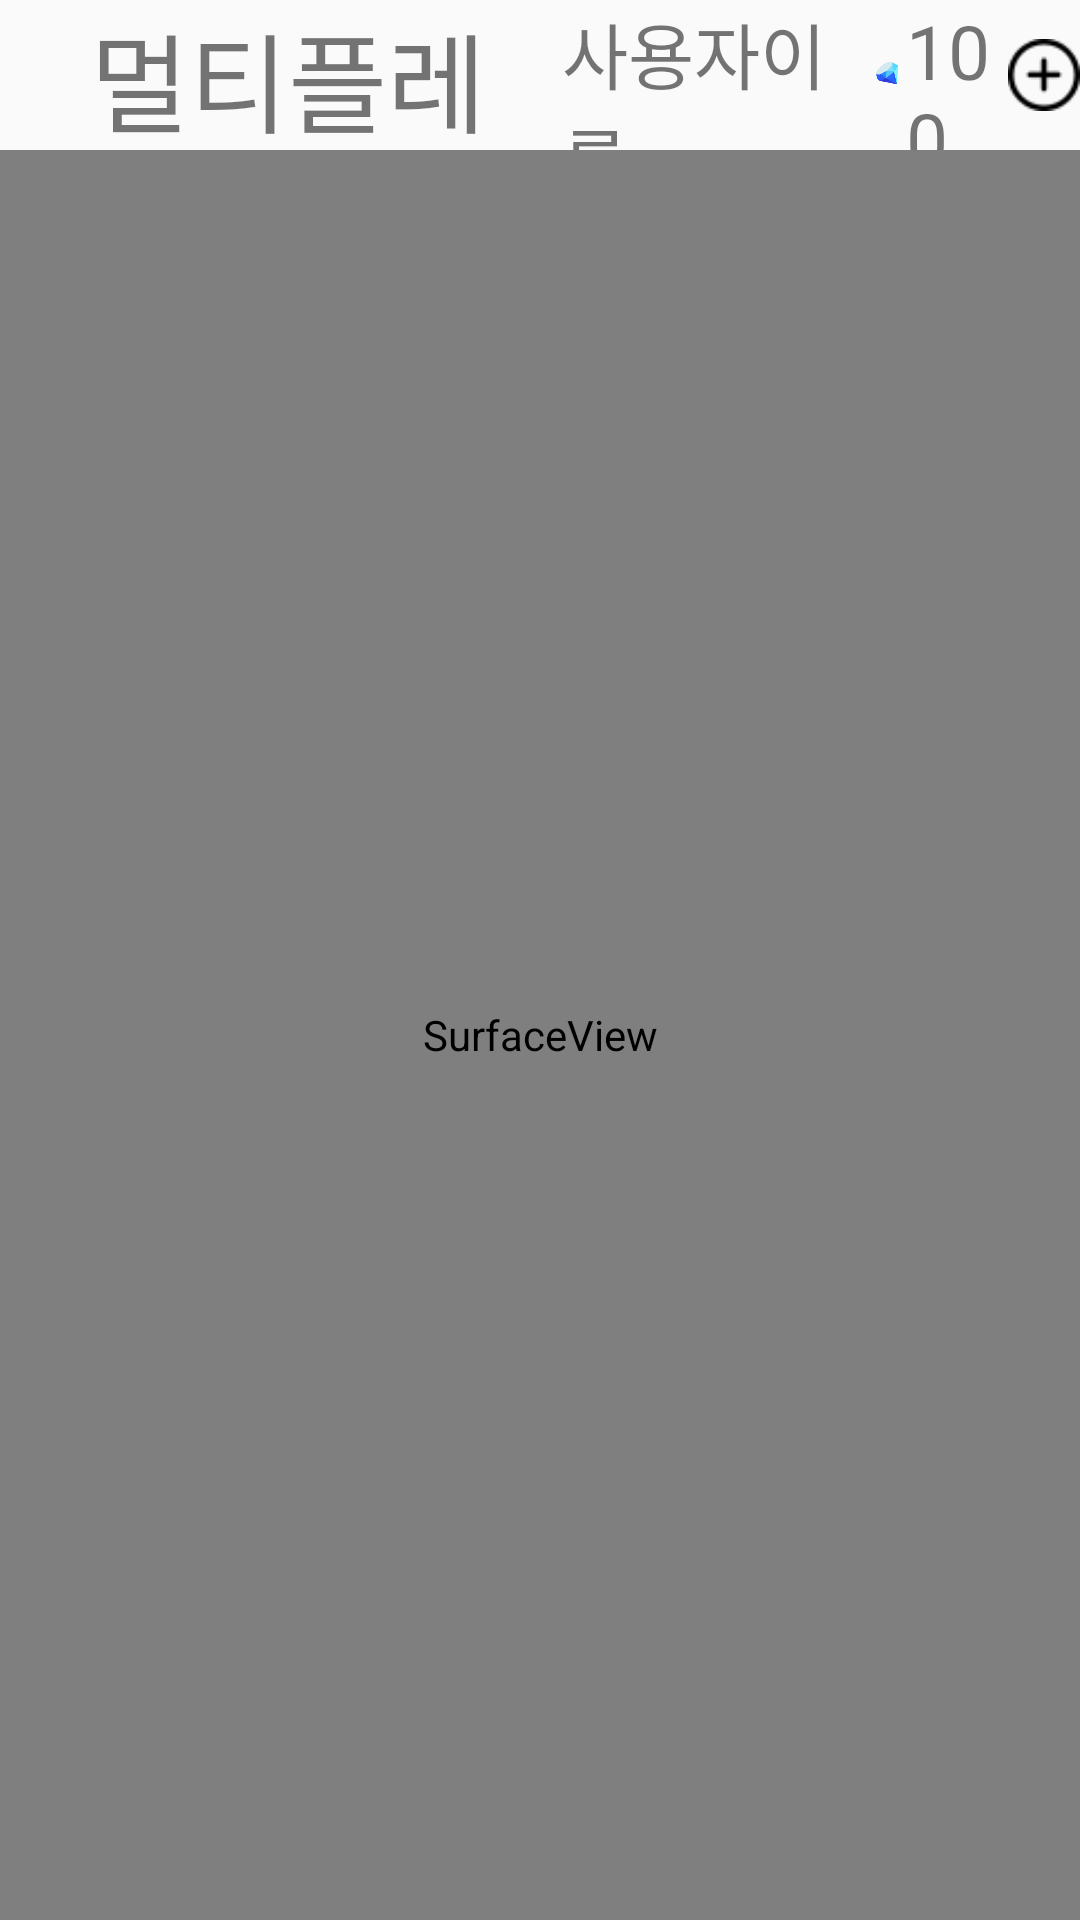

Icons on this 1080px x 1920px Android screen, each with its box as {"x1": x1, "y1": y1, "x2": x2, "y2": y2}:
plus: {"x1": 1008, "y1": 39, "x2": 1080, "y2": 111}
